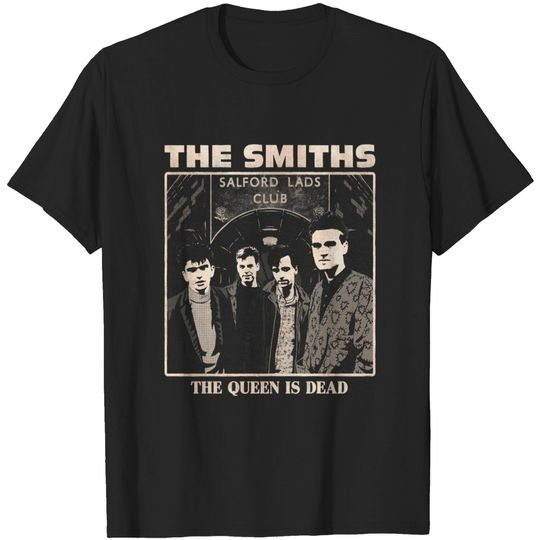design: (161, 141, 378, 398)
